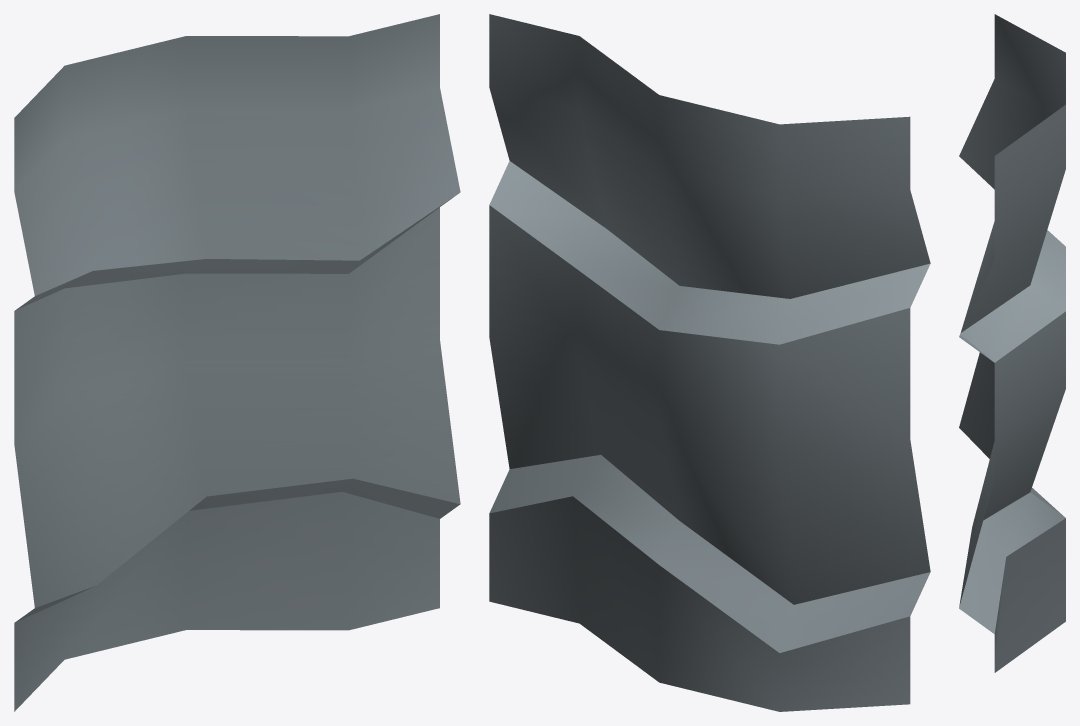
Rendered from Hill_Cliff_Tall_B_Side_Color1.gltf.
The picture shows the model from 3 angles, left to right: view 1: azimuth 30°, elevation 25°; view 2: azimuth 150°, elevation 25°; view 3: azimuth 270°, elevation 25°; orthographic projection. The views are drawn at different scales.
Parts seen in each view (by area): view 1: Hill_Cliff_Tall_B_Side_Color1; view 2: Hill_Cliff_Tall_B_Side_Color1; view 3: Hill_Cliff_Tall_B_Side_Color1.
Boxes of the visible parts, x1,y1,x2,y2 form: Hill_Cliff_Tall_B_Side_Color1: (14,14,460,711); Hill_Cliff_Tall_B_Side_Color1: (489,14,930,711); Hill_Cliff_Tall_B_Side_Color1: (959,14,1065,672).
Size of the model in its own units: 3 by 4 by 0.75.
Materials: 1 (1 with a texture image).
